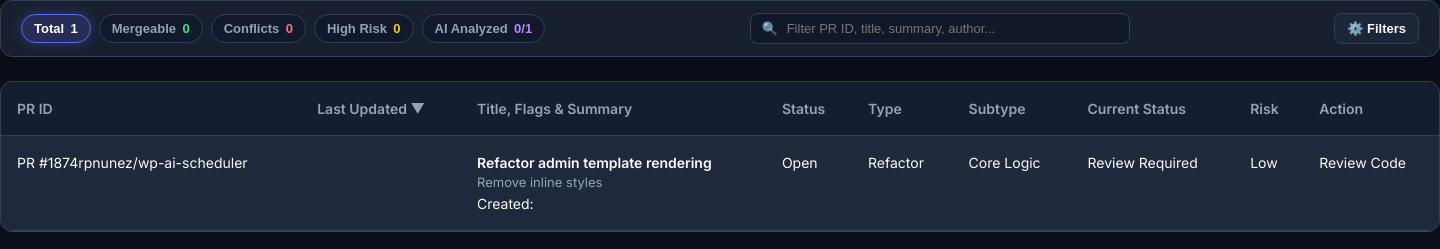
it: PRMatrix Component › filters PR items when search input is typed
Type "Nonexistent" into the field with placeholder "Filter PR ID, title, summary, author...".
click(940, 29); type("Nonexistent")  # box [750,13,1130,44]
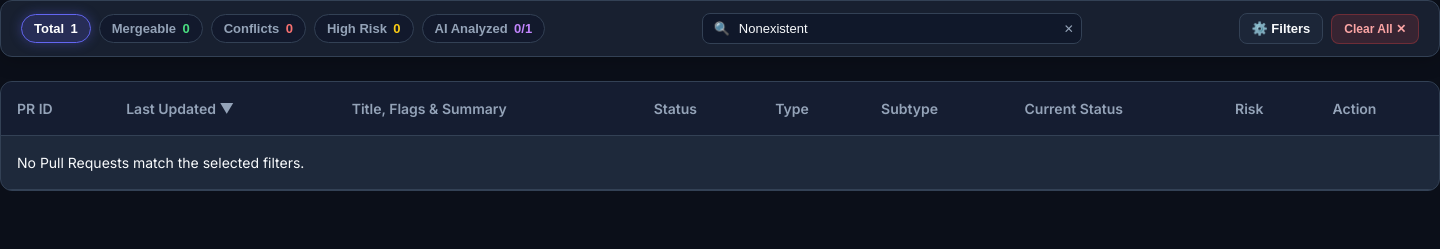
Expected: the text "No Pull Requests match the selected filters." is shown, [1,136,1439,190]
